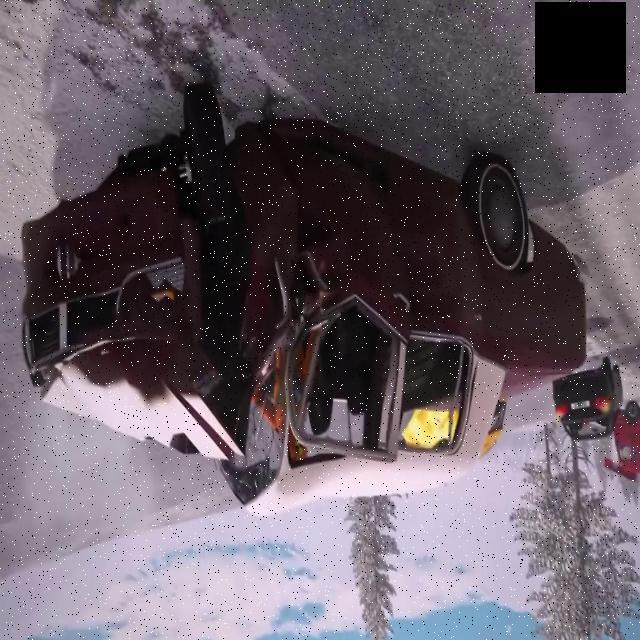severe: (11, 76, 589, 529)
